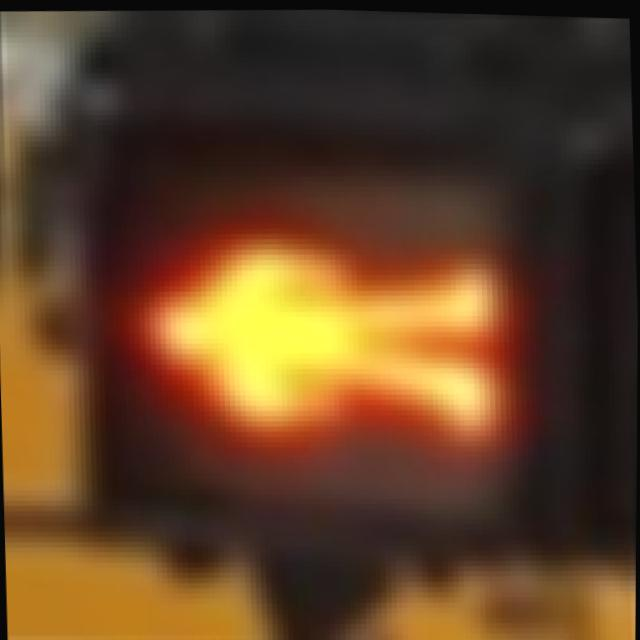red_light: (100, 129, 551, 509)
